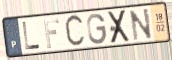C: (63, 12, 87, 50)
F: (43, 17, 61, 50)
G: (86, 13, 108, 46)
L: (21, 20, 41, 51)
N: (128, 7, 154, 42)
X: (107, 8, 132, 45)
